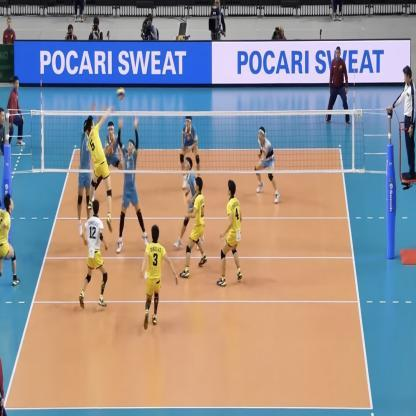spike: (83, 87, 123, 236)
